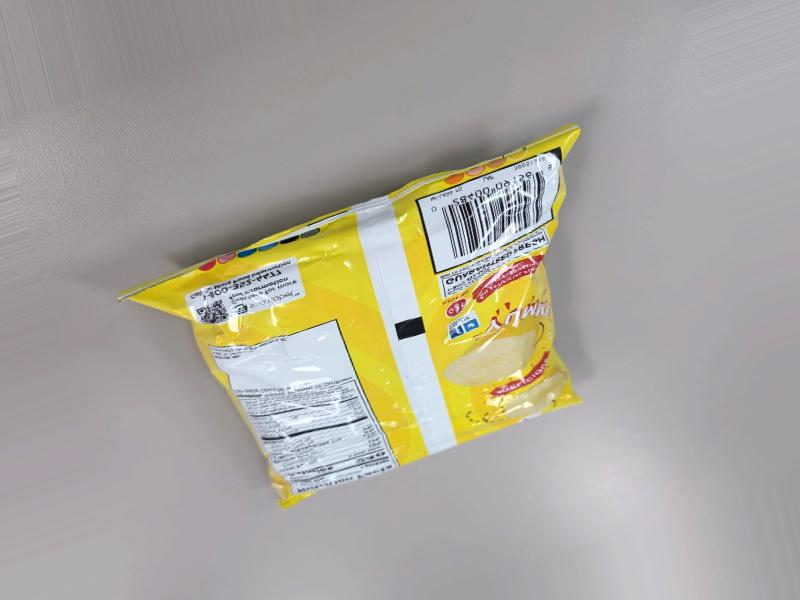lays: (187, 119, 574, 565)
